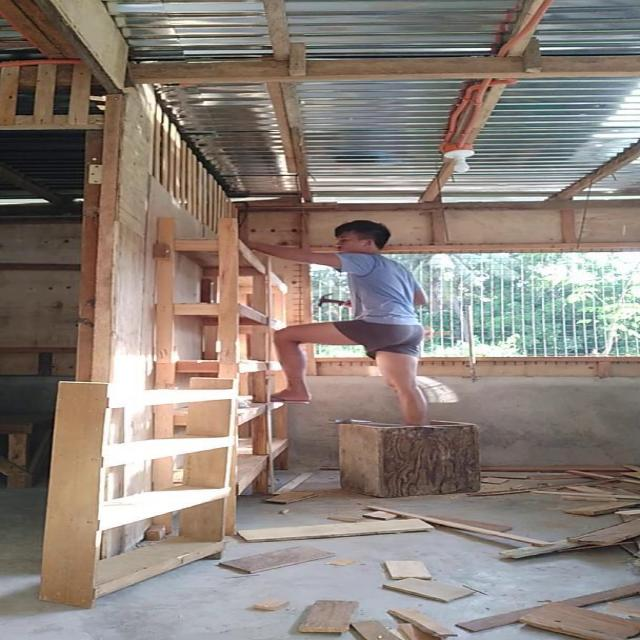hammer: (318, 292, 352, 308)
